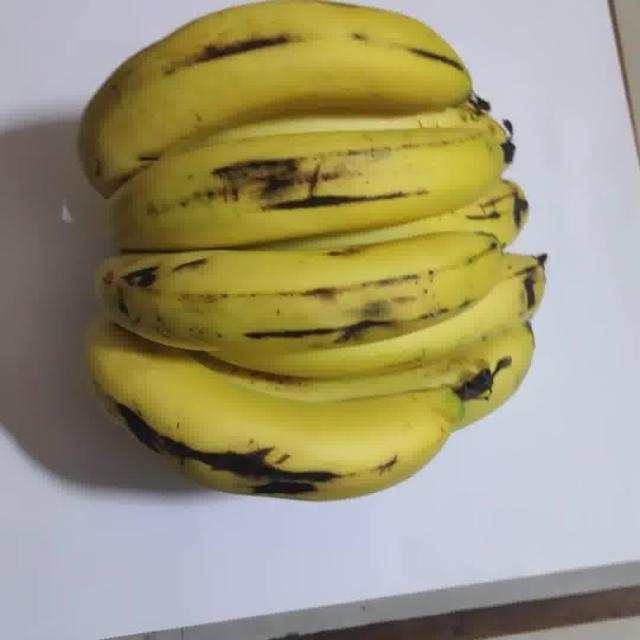banana_pacche: (21, 8, 621, 608)
